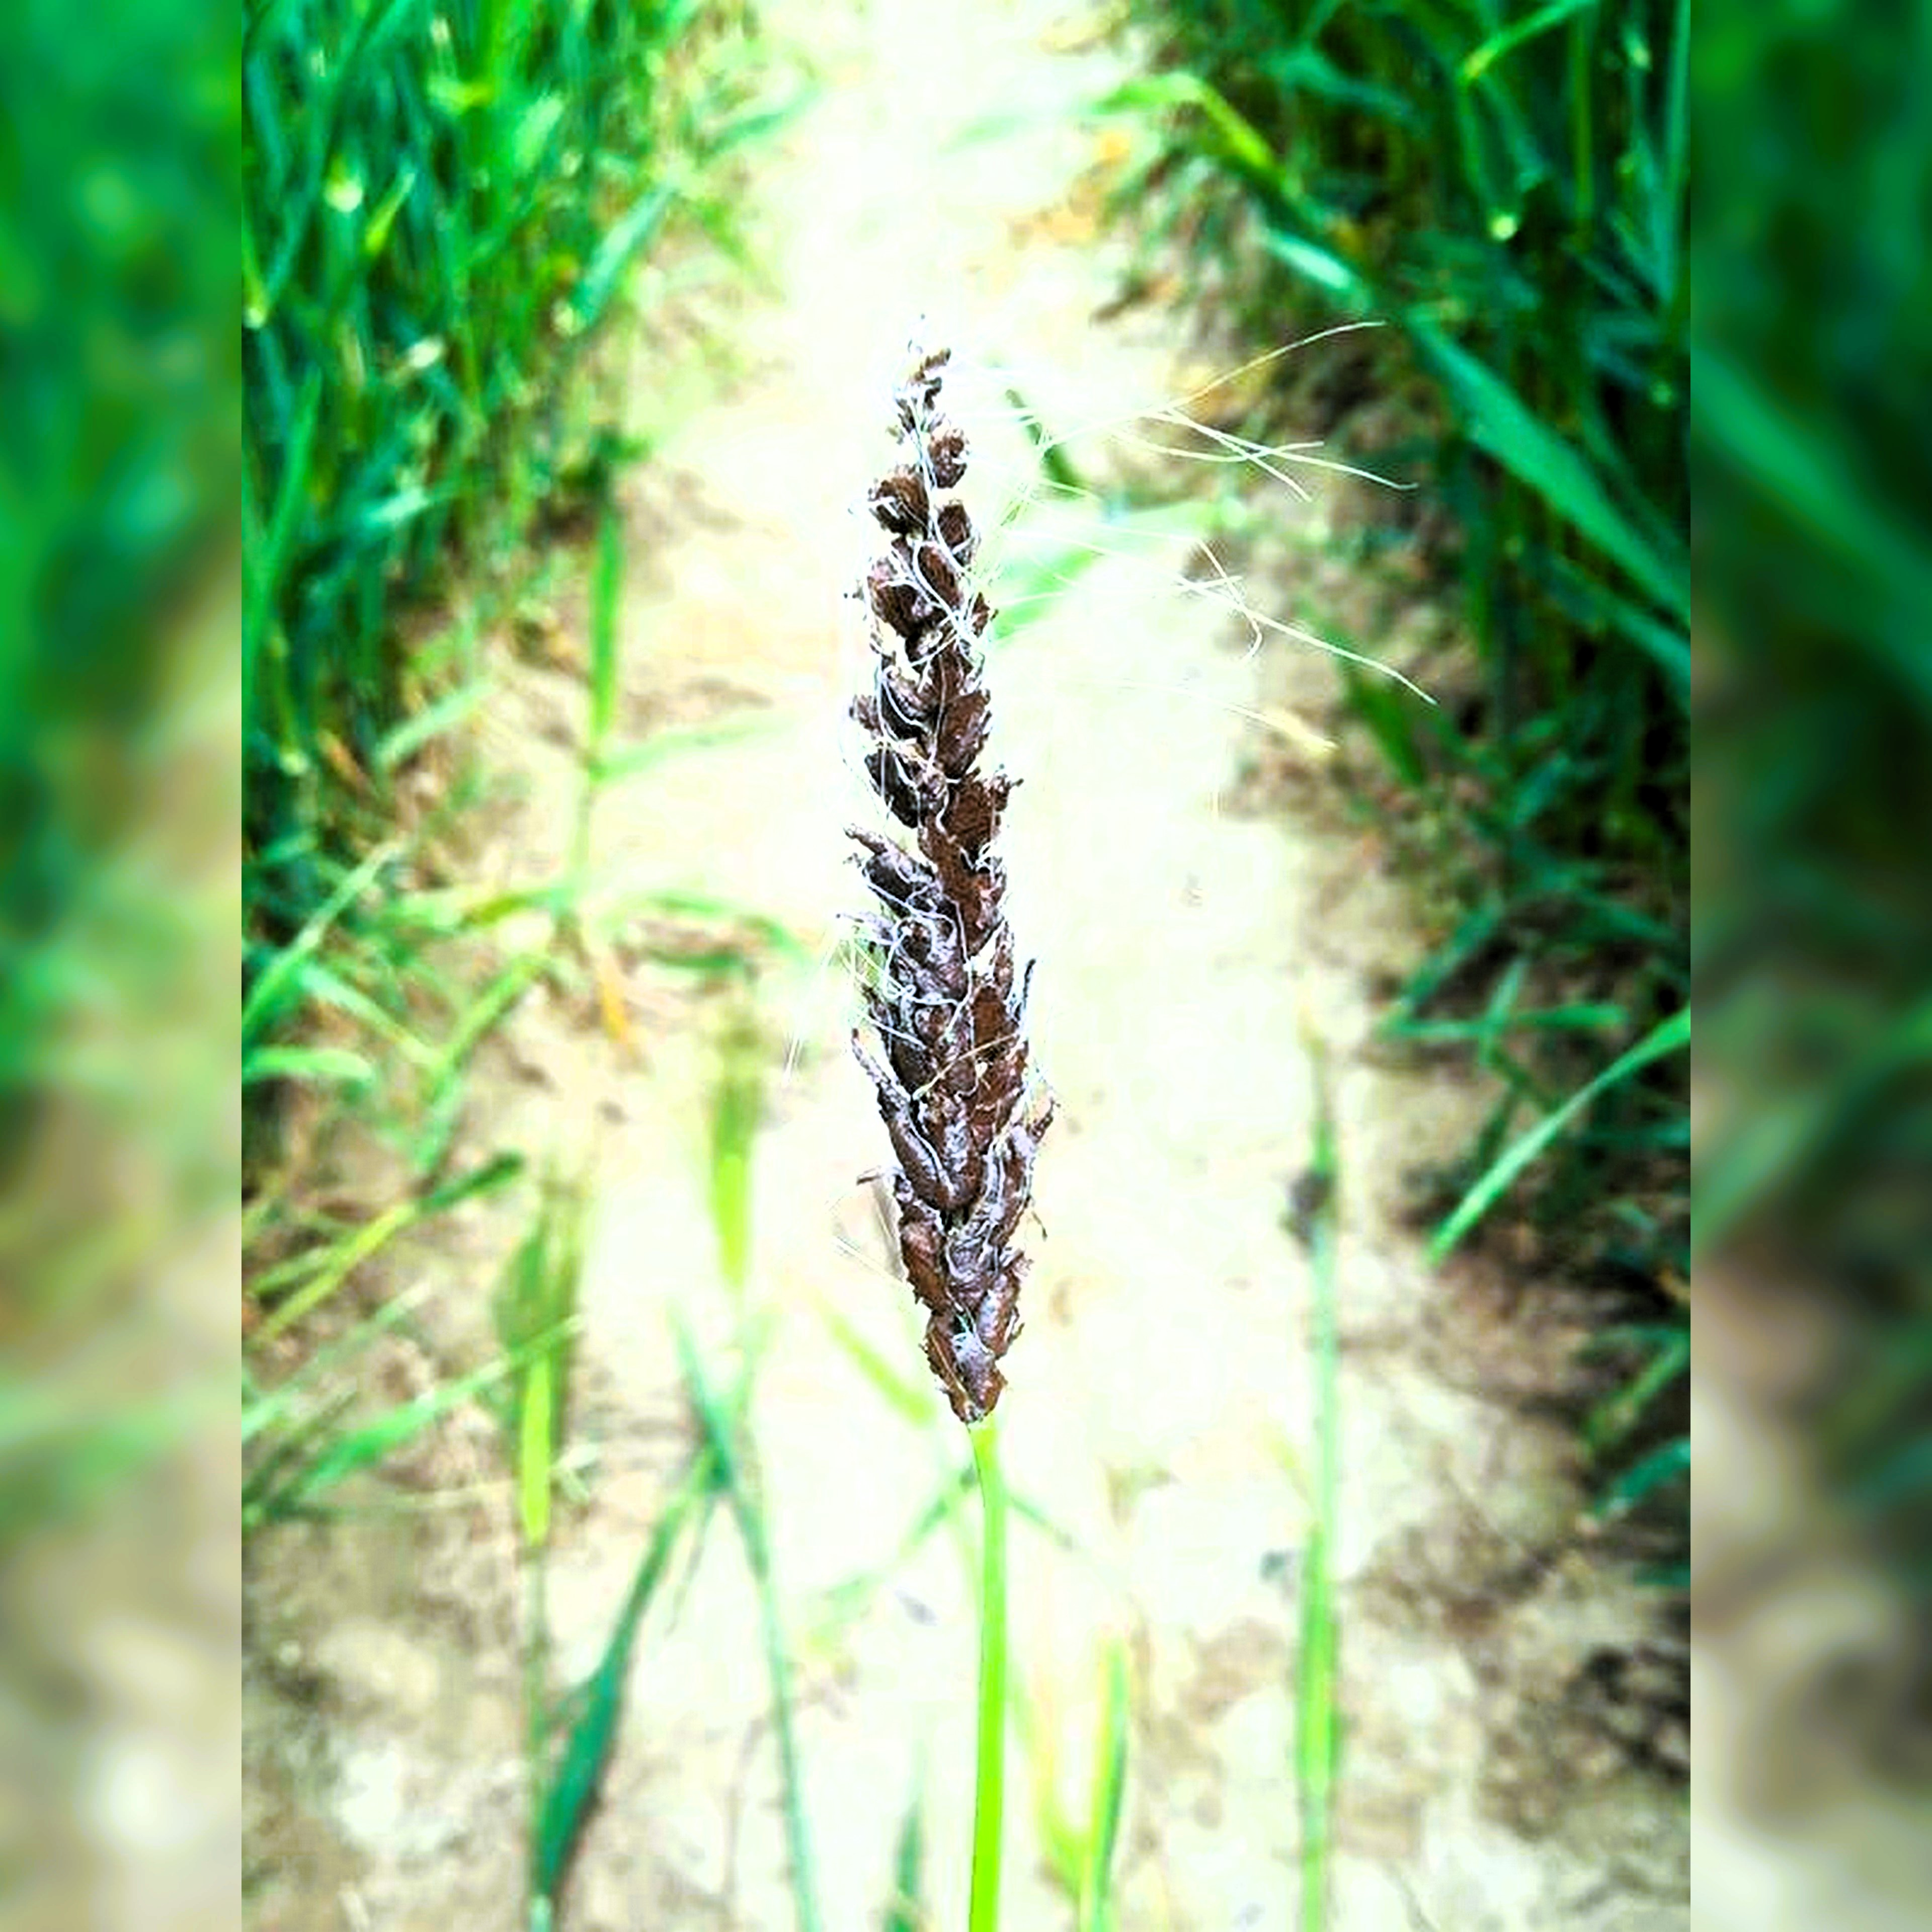Wheat Loose Smut: (794, 343, 1100, 1392)
